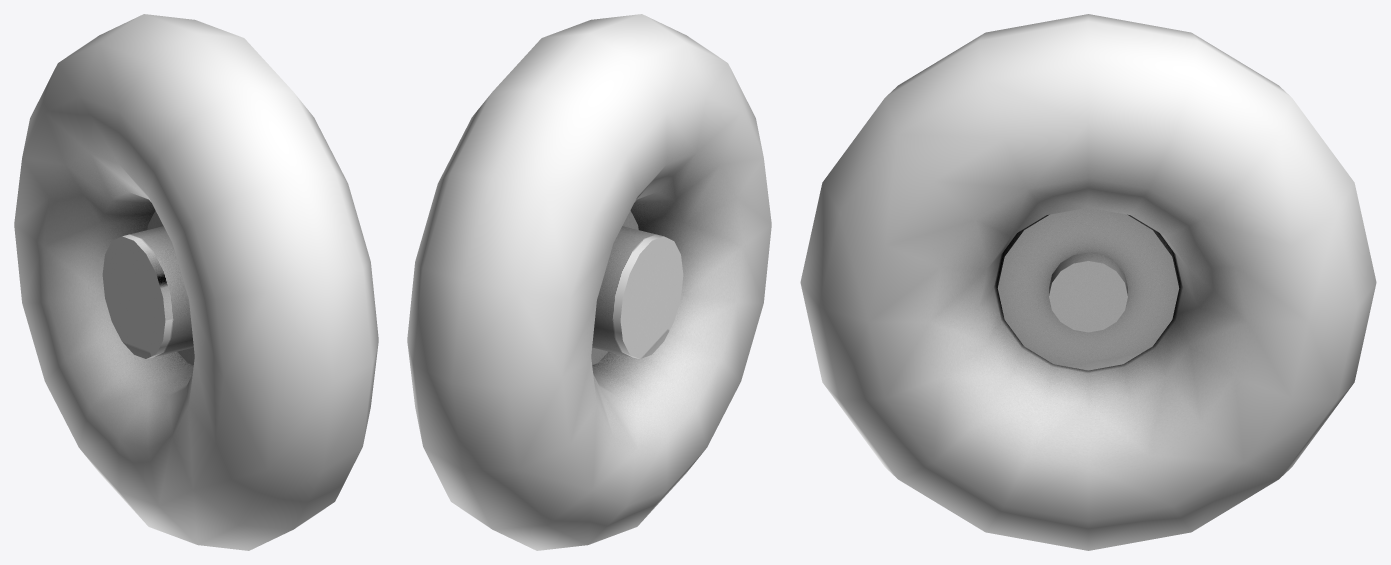
Rendered from WheelsDefault.dae.
3 views of the same model, side by side, from view 1: azimuth 30°, elevation 25°; view 2: azimuth 150°, elevation 25°; view 3: azimuth 270°, elevation 25° (orthographic). The views are drawn at different scales.
Visible parts, largest first — view 1: WHEELS, TIRE; view 2: WHEELS, TIRE; view 3: WHEELS, TIRE.
Part boxes in pixels (x1,y1,x2,y2): WHEELS: [14, 14, 378, 550]; TIRE: [102, 210, 194, 364]; WHEELS: [407, 14, 771, 550]; TIRE: [591, 210, 683, 364]; WHEELS: [800, 14, 1376, 550]; TIRE: [997, 207, 1179, 370].
Size of the model in its own units: 0.303 by 0.9302 by 0.9302.
Materials: 1 (1 with a texture image).
